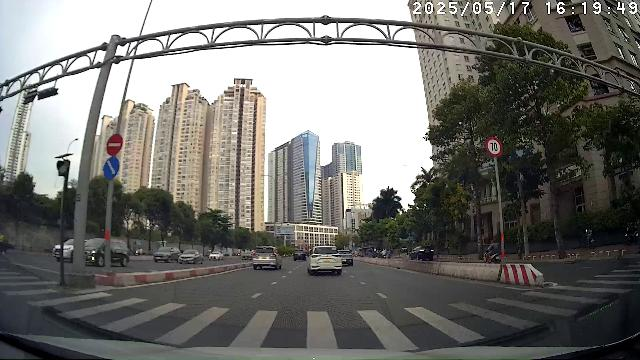127-toc-do-toi-da-70: (485, 136, 503, 158)
